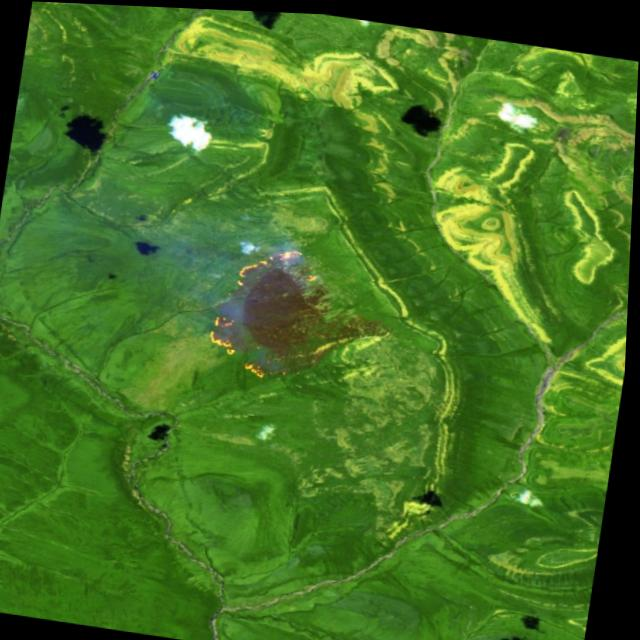fire: (197, 230, 329, 384)
